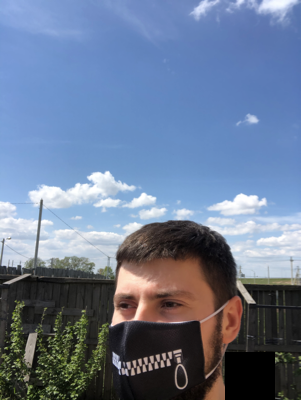with_mask: (107, 277, 216, 400)
